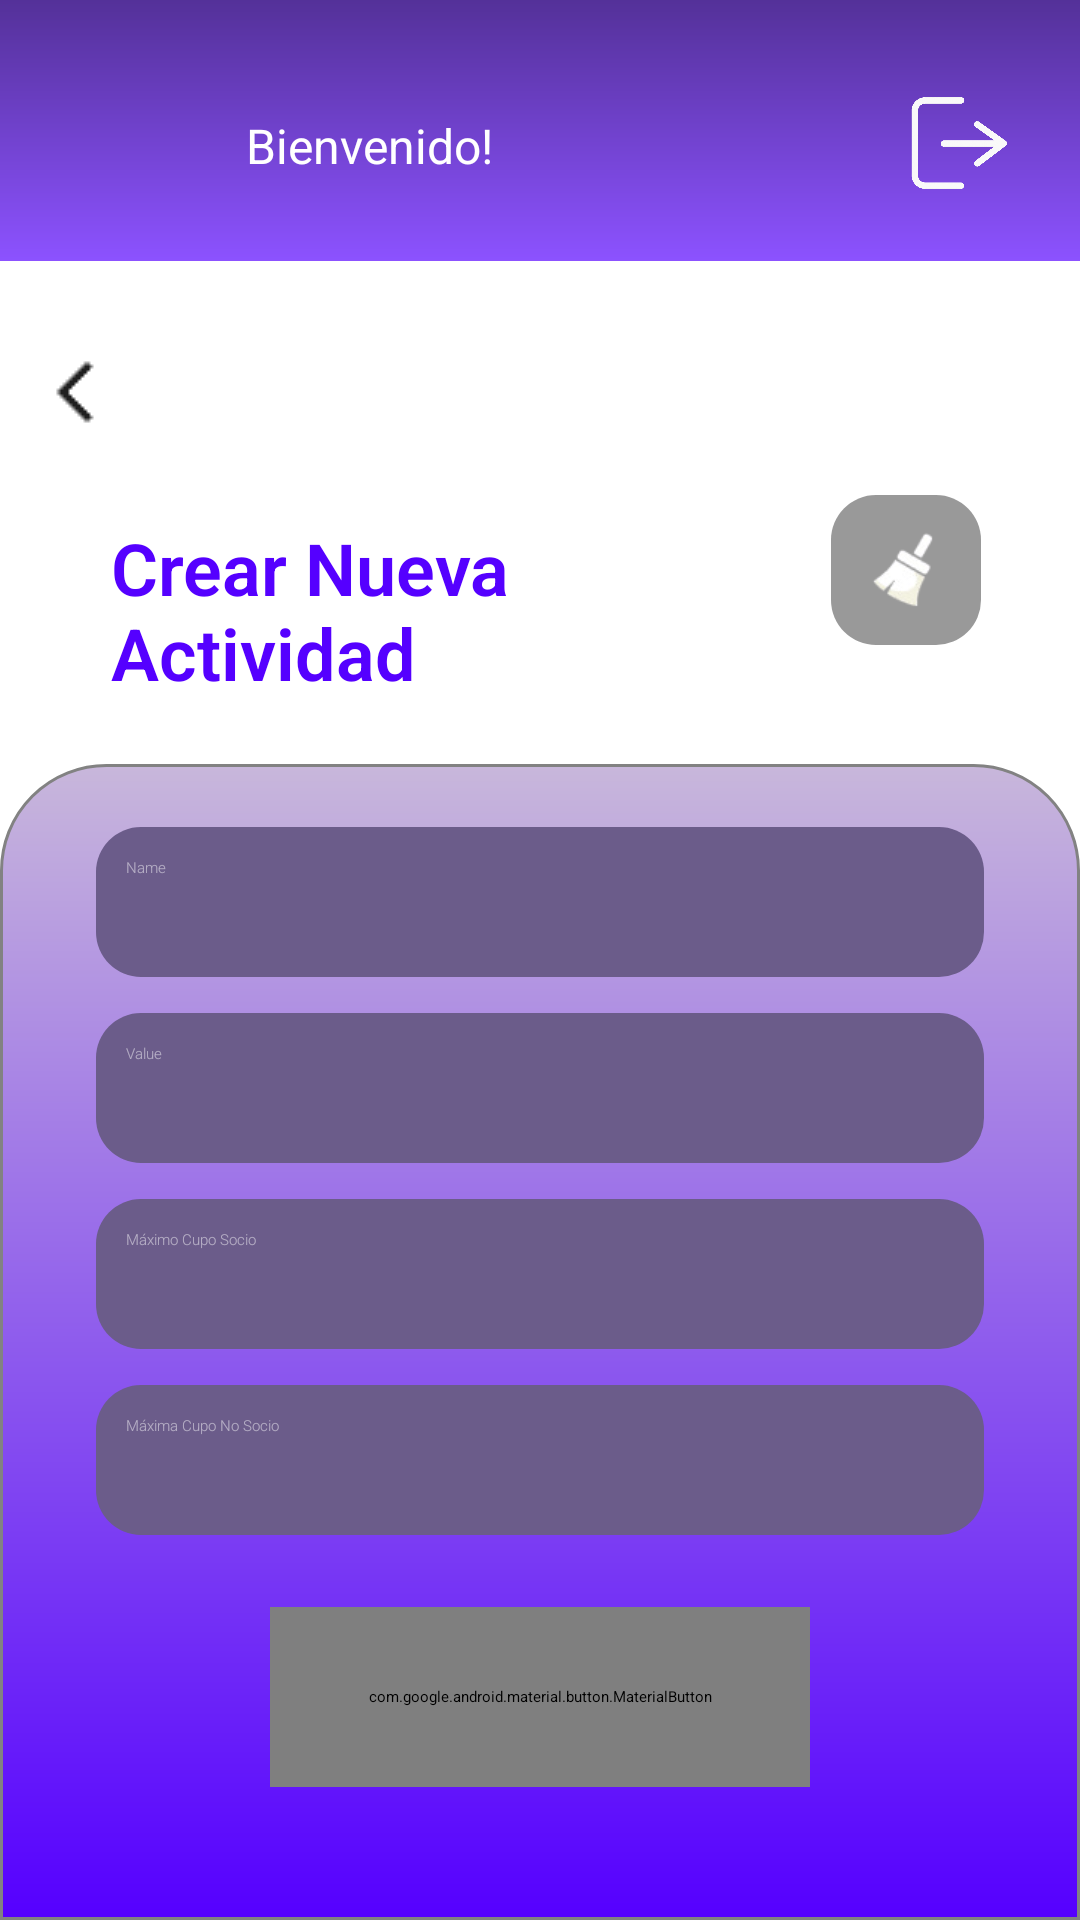

Named icons in this screenshot (1080 x 1920) and their centers, (x=x, y=y):
back: (x=75, y=392)
clear: (x=906, y=570)
salir: (x=957, y=145)
